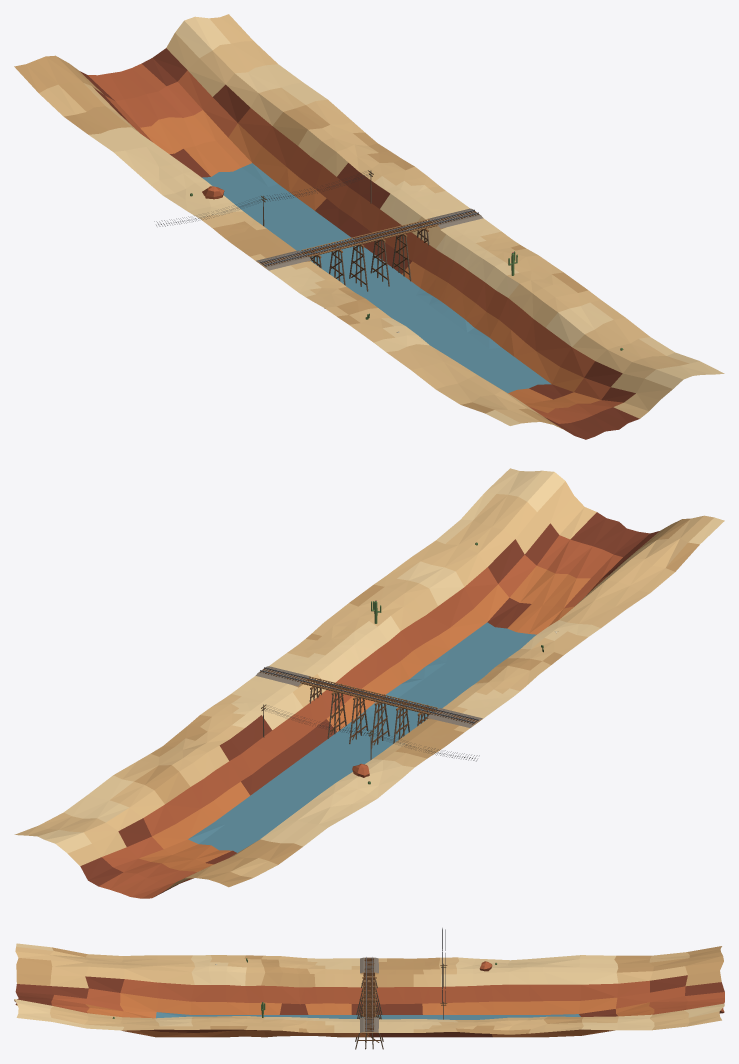
The model's file is SM_FG_Chunk_Gulch_A.fbx.
The picture shows the model from 3 angles, top to bottom: view 1: azimuth 30°, elevation 25°; view 2: azimuth 150°, elevation 25°; view 3: azimuth 270°, elevation 25°; orthographic projection. The views are drawn at different scales.
Parts seen in each view (by area): view 1: FG_Chunk_Gulch_A_Track; view 2: FG_Chunk_Gulch_A_Track; view 3: FG_Chunk_Gulch_A_Track.
Part boxes in pixels (left/top/right/bottom): FG_Chunk_Gulch_A_Track: left=14, top=14, right=724, bottom=439; FG_Chunk_Gulch_A_Track: left=14, top=468, right=724, bottom=898; FG_Chunk_Gulch_A_Track: left=14, top=928, right=724, bottom=1049.
Size of the model in its own units: 6250 by 1693 by 20148.
